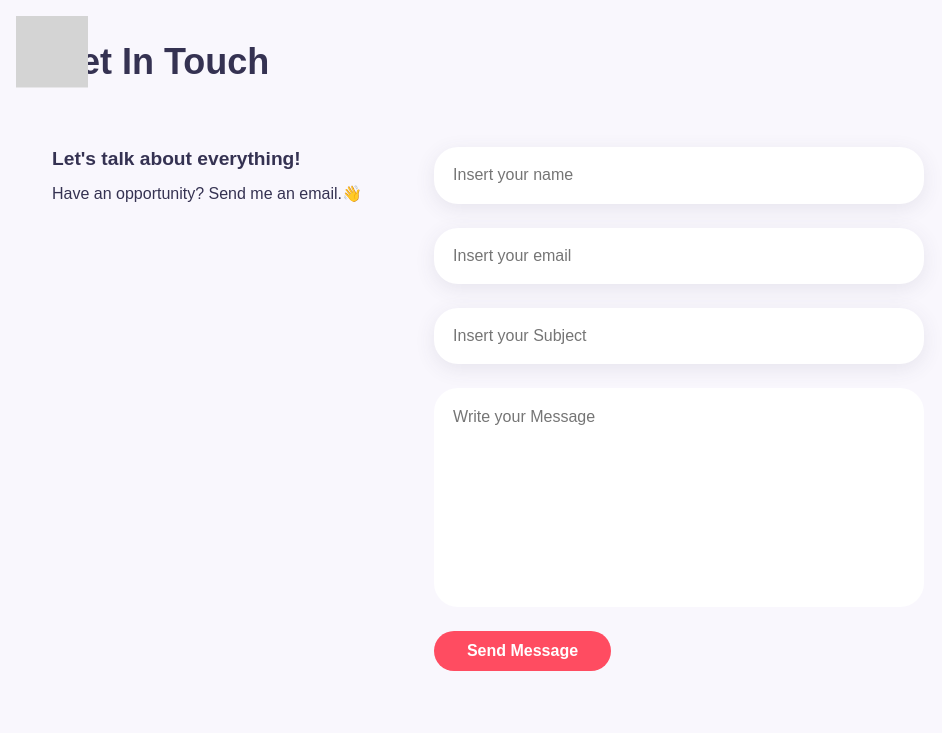
GetInTouchSection › should display an error message if the field 'email' doesn't pass the yup validations
Type "aa" into the field with placeholder "Insert your name".
click(679, 175); type("aa")  # box left=434, top=147, right=924, bottom=204
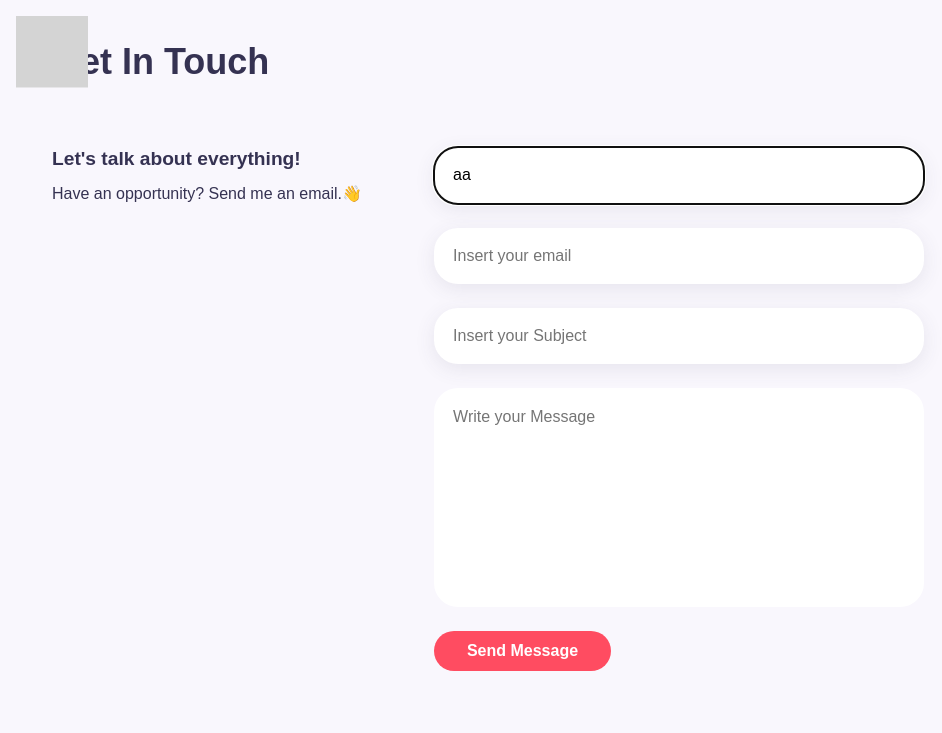
Type "test@rn9.c" into the field with placeholder "Insert your email".
click(679, 256); type("test@rn9.c")  # box left=434, top=228, right=924, bottom=284
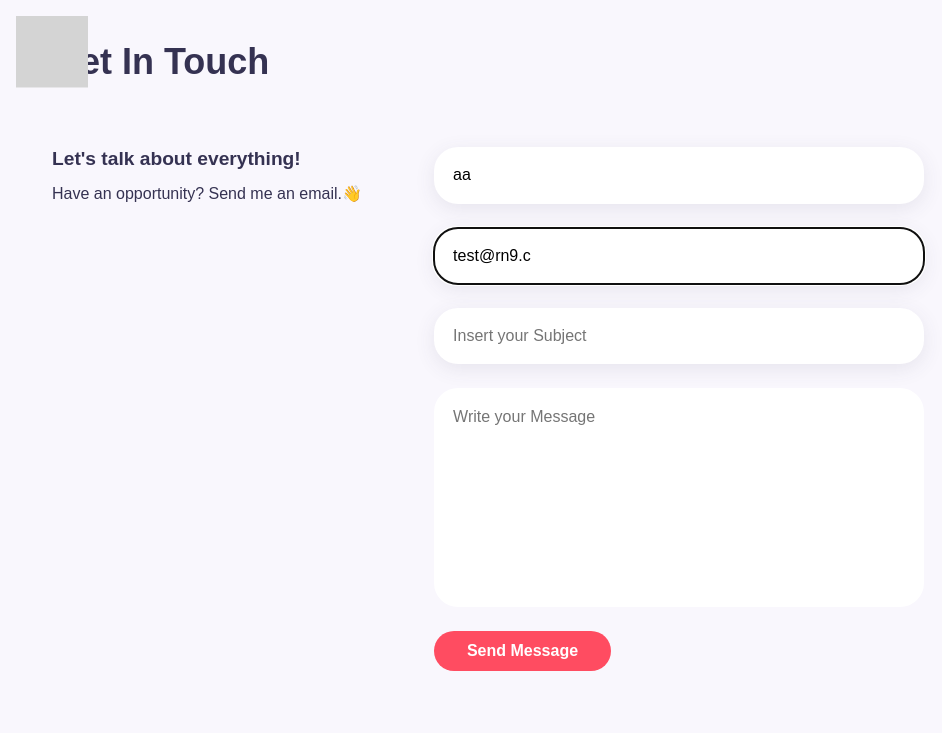
Type "test subject" into the field with placeholder "Insert your Subject".
click(679, 336); type("test subject")  # box left=434, top=308, right=924, bottom=364
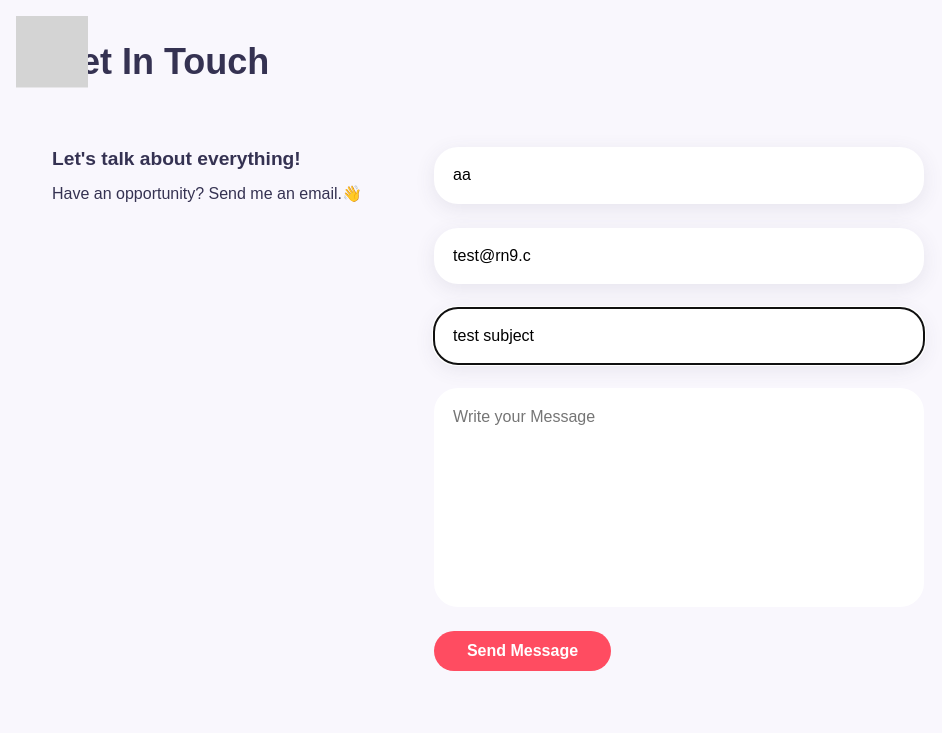
Type "test message" into the text box with placeholder "Write your Message".
click(679, 498); type("test message")  # box left=434, top=388, right=924, bottom=607
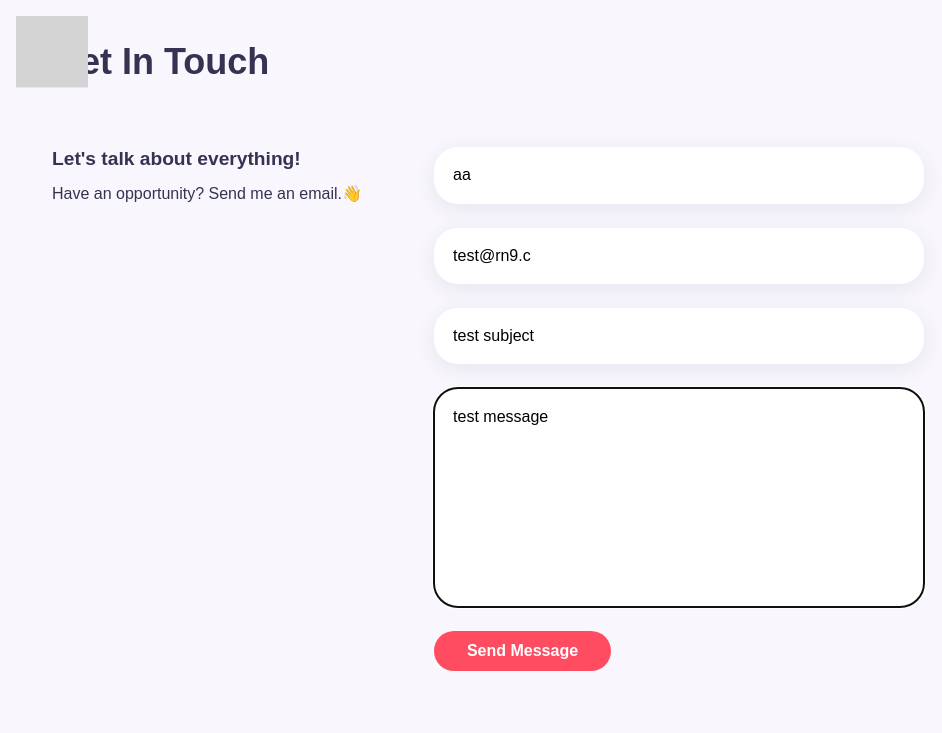
Click the button "Send Message".
click(522, 651)  # box left=434, top=631, right=611, bottom=671
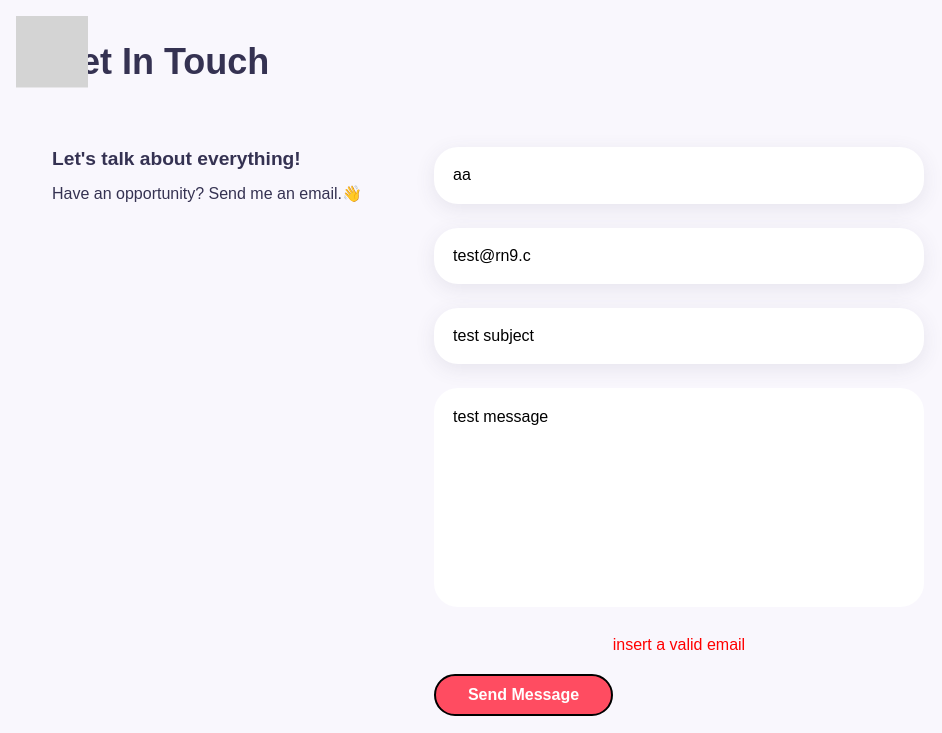
Check: the text "insert a valid email" is shown, box left=613, top=636, right=745, bottom=653
